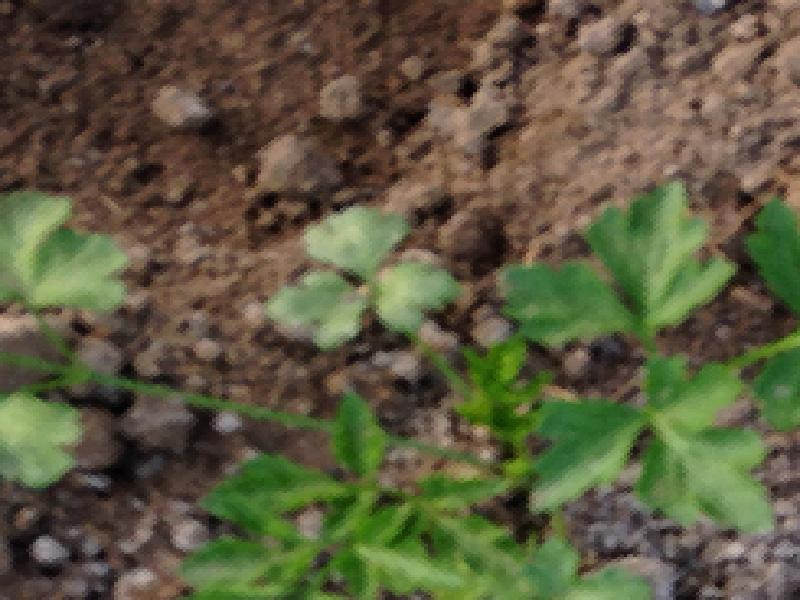radish: (31, 45, 800, 600)
